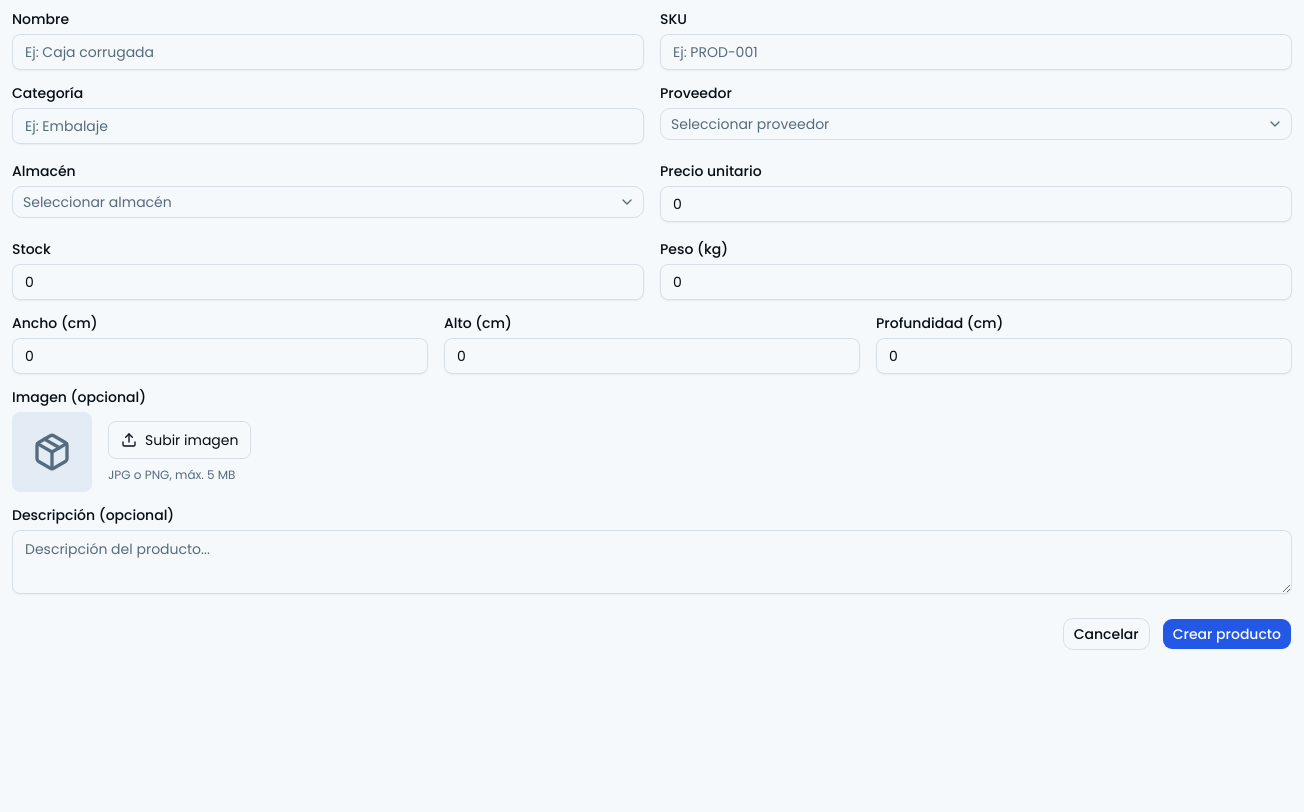
Test case: ProductForm — validación › muestra errores en campos numéricos con default 0
# Primero llenar los campos de texto para que solo fallen los numéricos
In the field labelled "Nombre": {"x": 328, "y": 52} [12, 34, 644, 70], type "Test"
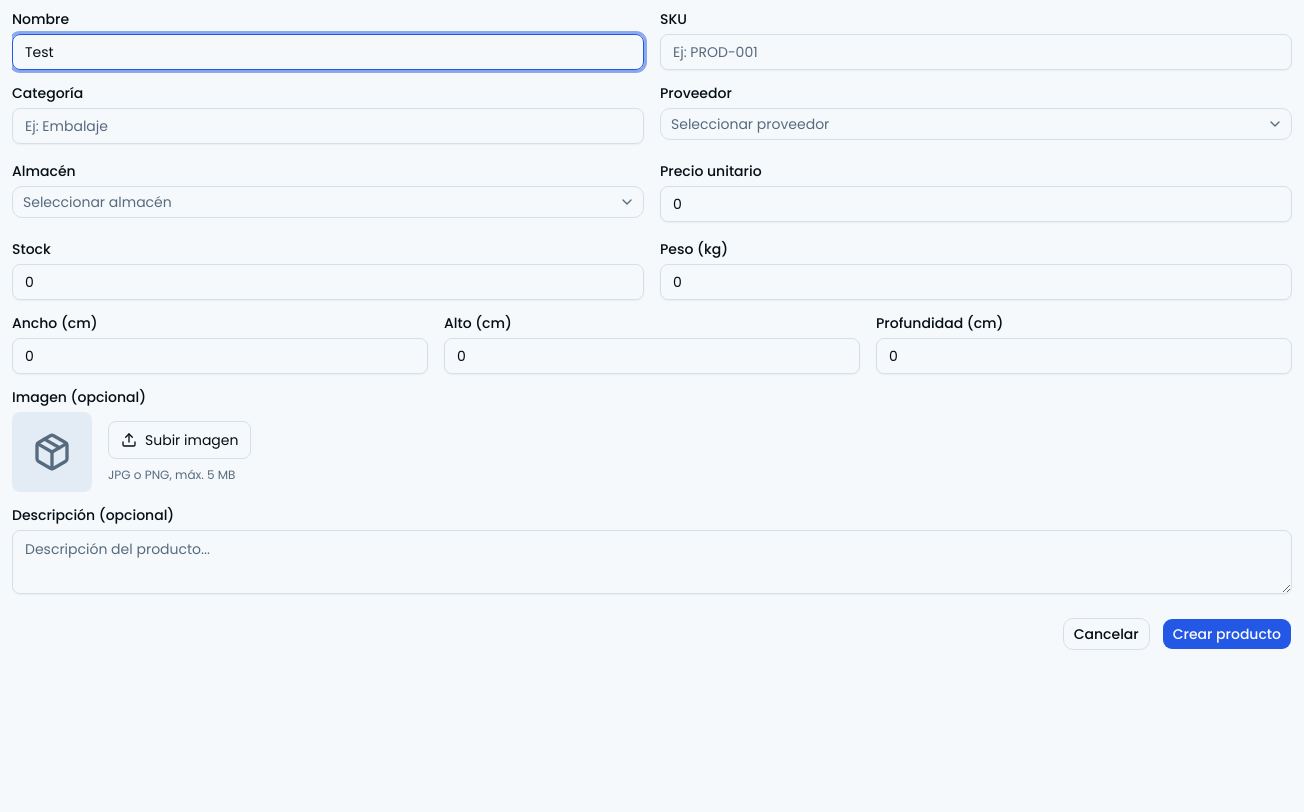
In the field labelled "SKU": {"x": 976, "y": 52} [660, 34, 1292, 70], type "TEST-001"
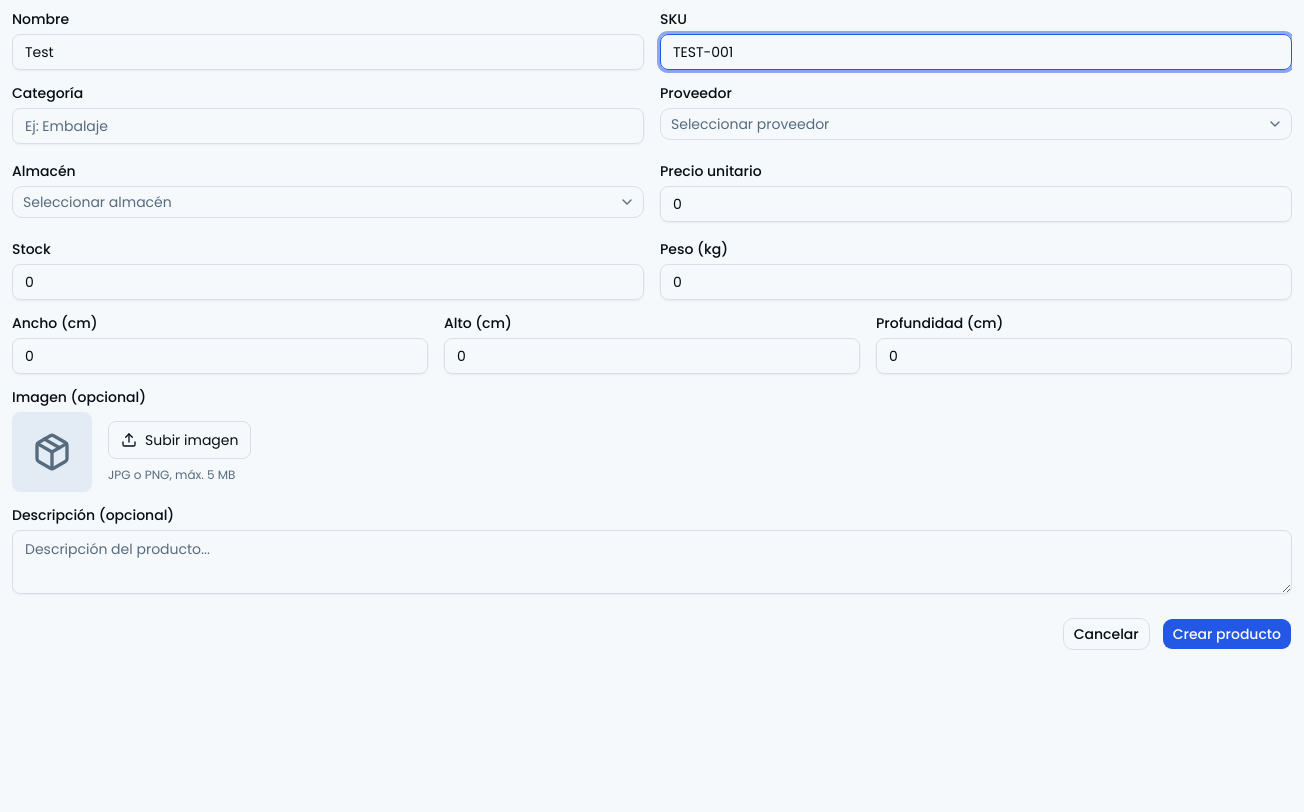
In the field labelled "Categoría": {"x": 328, "y": 126} [12, 108, 644, 144], type "Test"
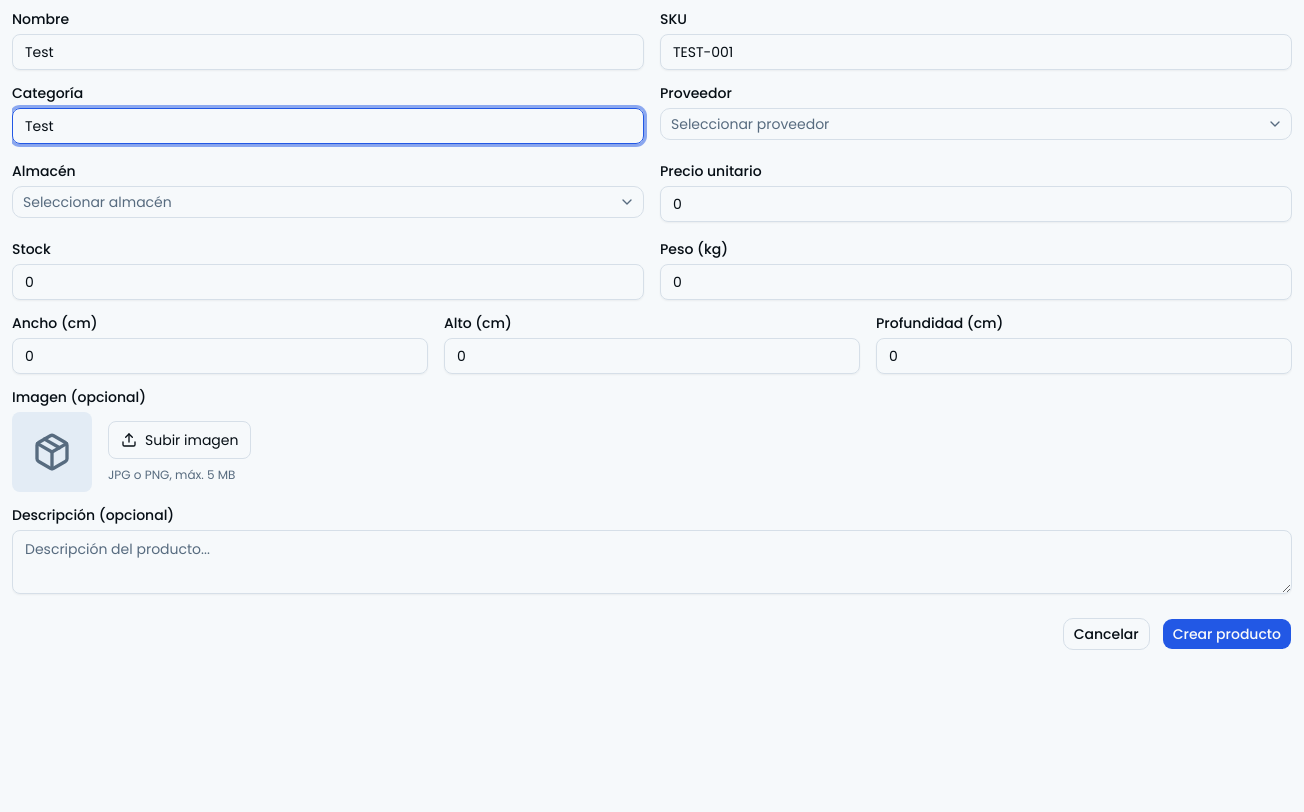
Click the button "Crear producto": {"x": 1227, "y": 634} [1162, 618, 1292, 650]
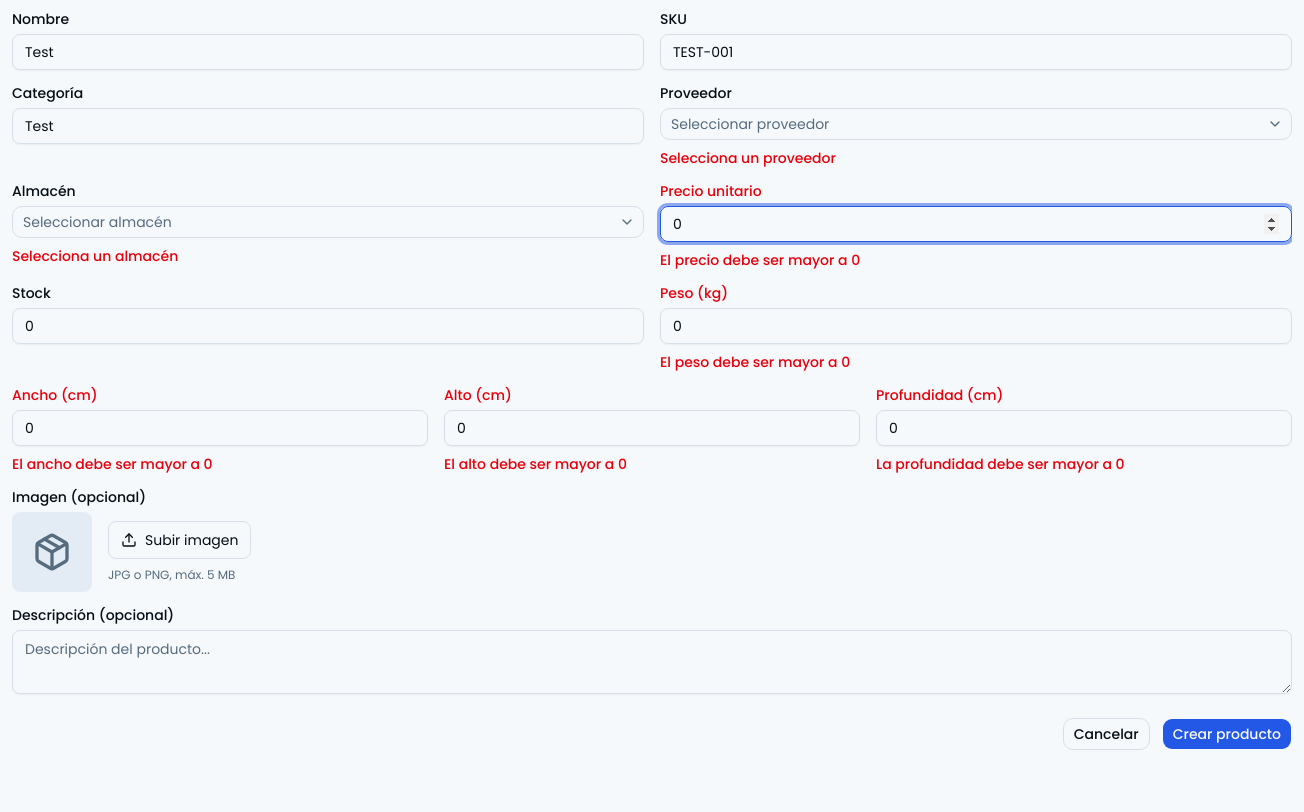
Expected: the text "El peso debe ser mayor a 0" is shown, [660, 352, 850, 372]
Expected: the text "El ancho debe ser mayor a 0" is shown, [12, 454, 213, 474]
Expected: the text "El alto debe ser mayor a 0" is shown, [444, 454, 627, 474]
